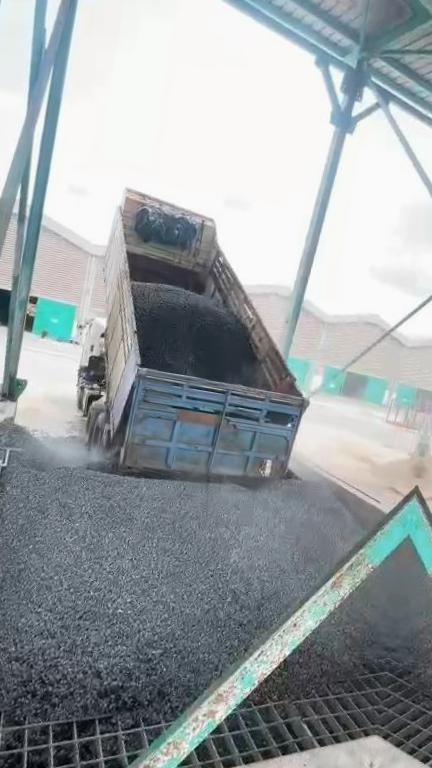gravel: (0, 416, 378, 724), (254, 545, 406, 701), (132, 282, 260, 387)
sand: (326, 457, 421, 510)
